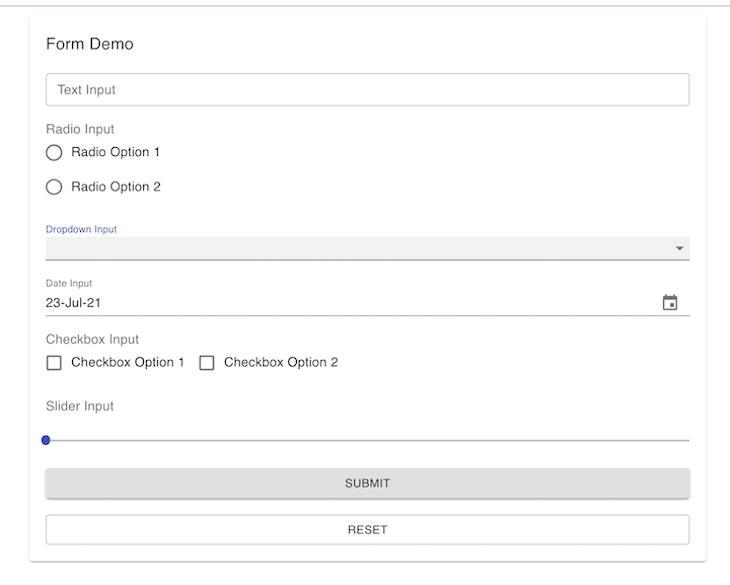button: (47, 468, 691, 499), (47, 518, 691, 544)
checkbox: (200, 356, 215, 371), (48, 356, 62, 372)
dropdown: (48, 237, 692, 260)
icon: (660, 292, 684, 315)
input: (46, 74, 691, 107), (45, 288, 656, 318)
label: (71, 177, 163, 199), (45, 33, 135, 55), (224, 354, 346, 370), (70, 358, 189, 373), (45, 332, 141, 349), (70, 147, 164, 164), (44, 122, 119, 139), (40, 401, 124, 415), (44, 226, 127, 236)
radio: (45, 143, 67, 165), (44, 179, 64, 198)
slider: (41, 433, 692, 449)
